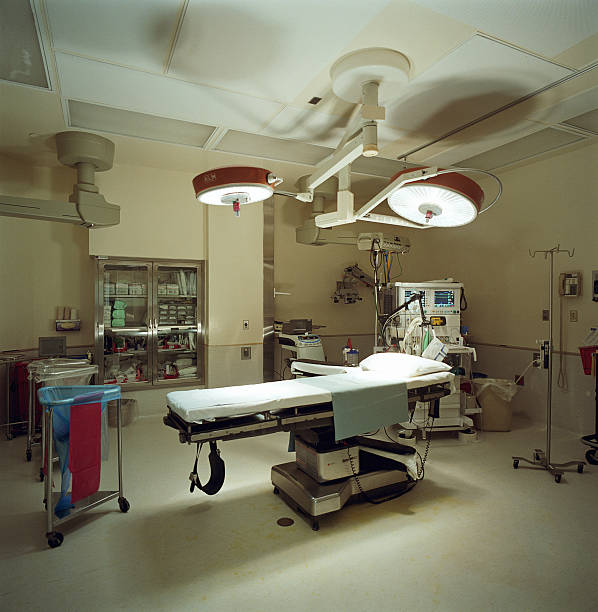bedside_monitor: (430, 284, 462, 312), (396, 284, 428, 312)
cabinet: (89, 251, 206, 388)
electrosurgical_unit: (280, 332, 320, 347)
handle: (153, 317, 159, 331), (148, 317, 154, 331)
iv_pole: (512, 243, 587, 485)
operating_bed: (164, 351, 457, 531)
surgical_light: (385, 166, 485, 227), (191, 167, 276, 218)
telephone: (556, 271, 581, 304)
utility_cart: (1, 351, 24, 449)
waste_bin: (38, 384, 132, 549), (20, 358, 94, 460), (475, 377, 514, 434)
